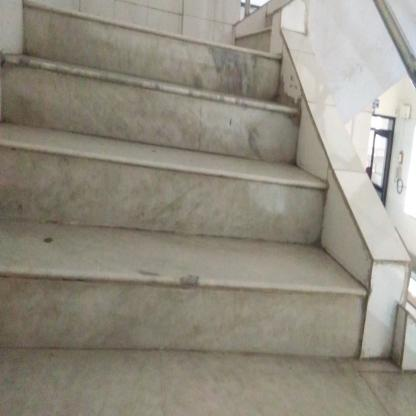stairs: (45, 6, 269, 382)
